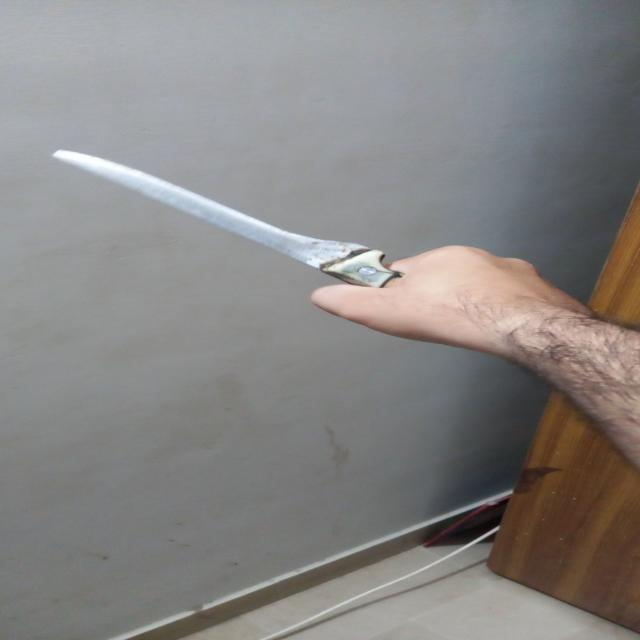knife: (43, 145, 438, 302)
